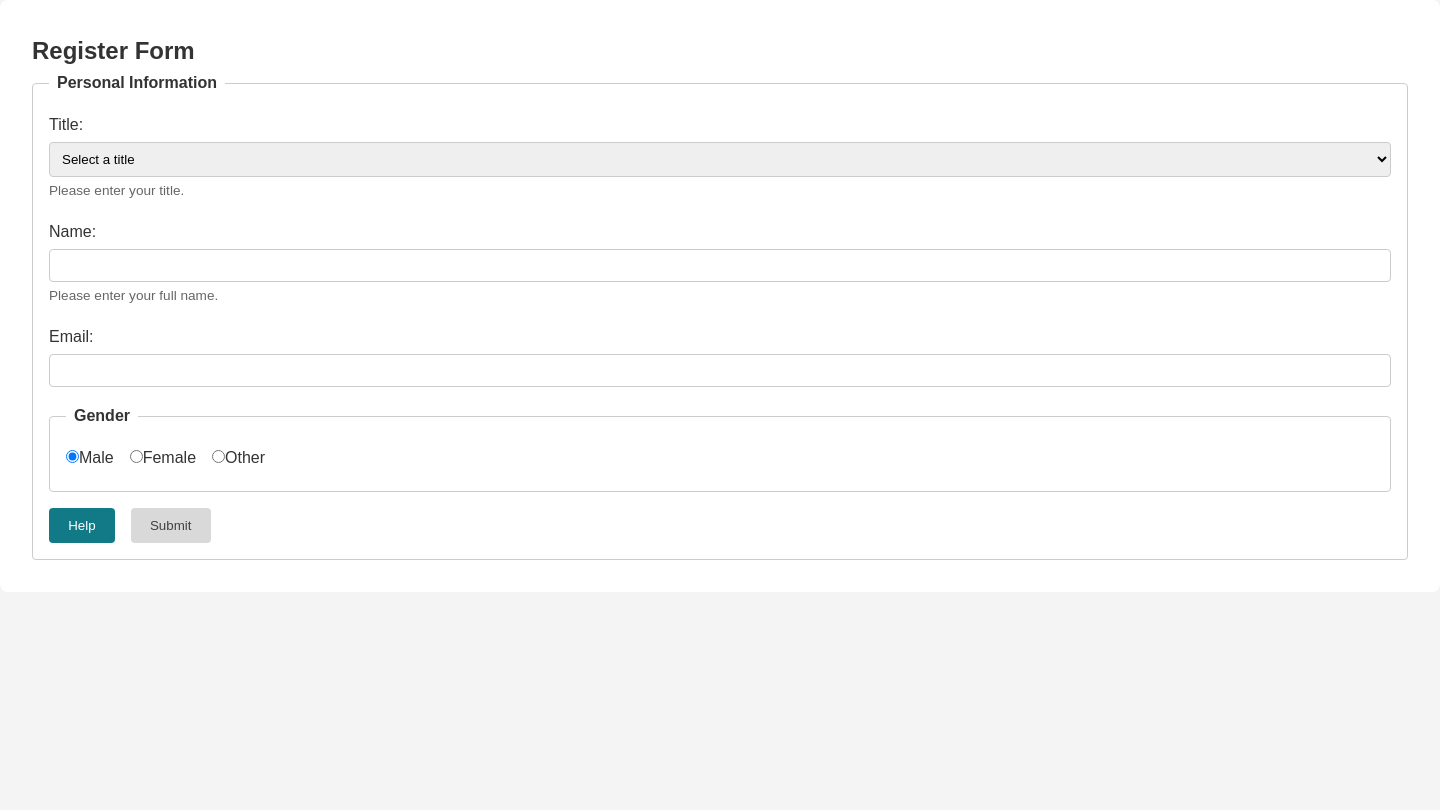
Test: Form Component › should show error messages when fields are invalid by sequential
Select "Mr." in the dropdown labelled "Title:" at (720, 160), box x1=49 y1=142 x2=1391 y2=177
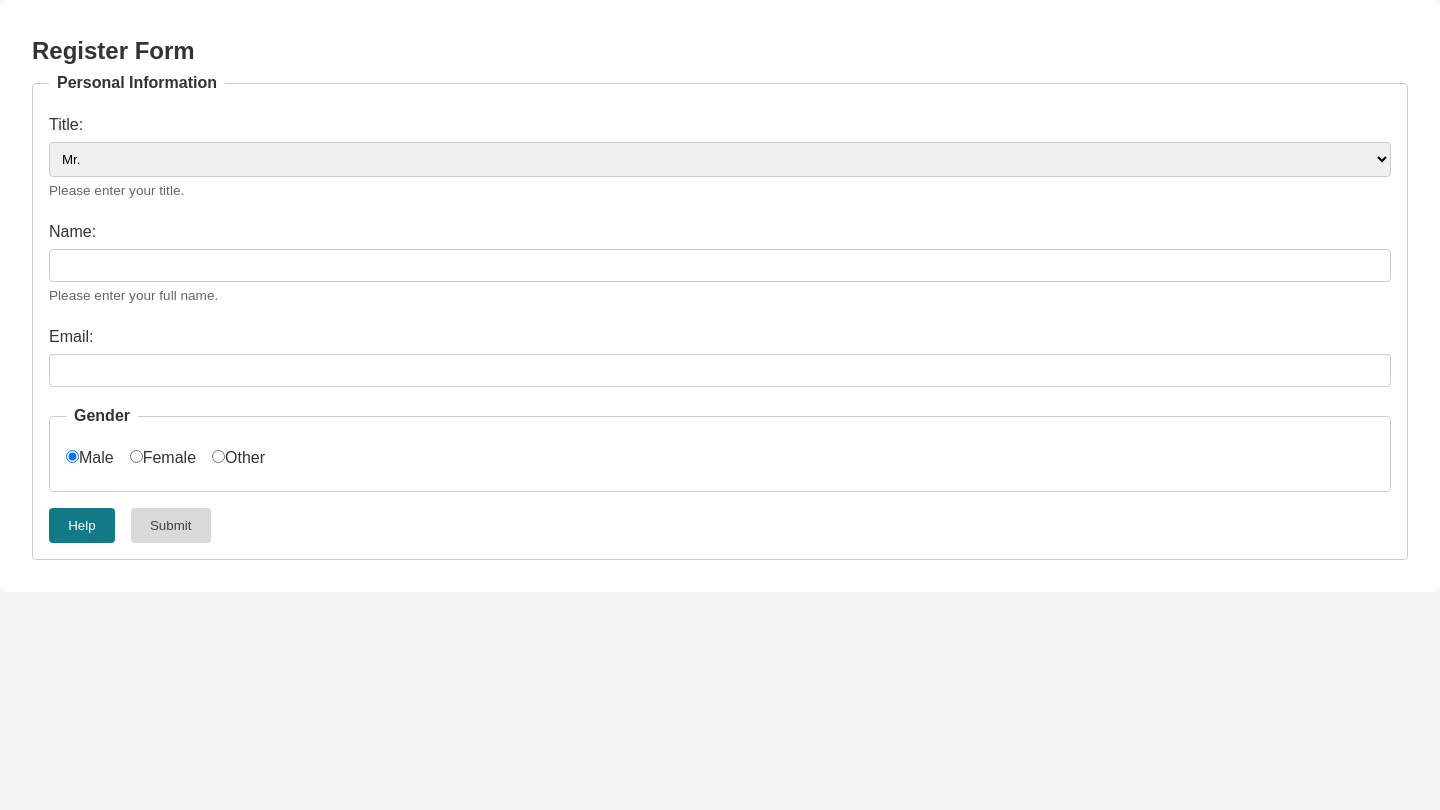
Click the button "Submit".
click(171, 525)  # box x1=131 y1=508 x2=211 y2=542
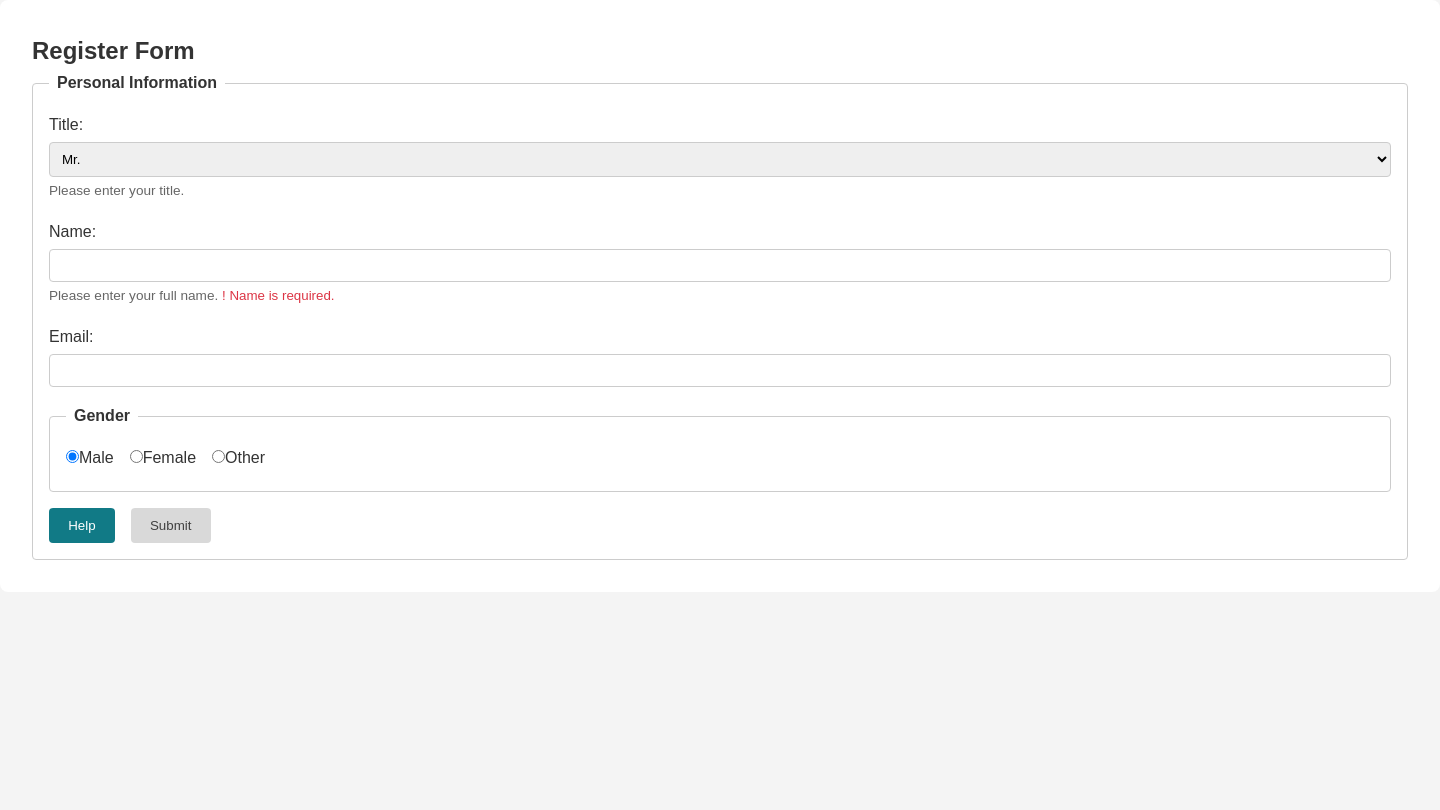
expect the message reads "! Name is required.": met, box x1=218 y1=288 x2=335 y2=303
